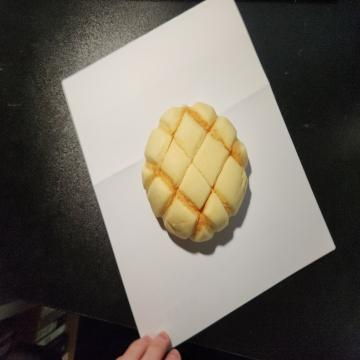melon_bread: (141, 103, 252, 244)
